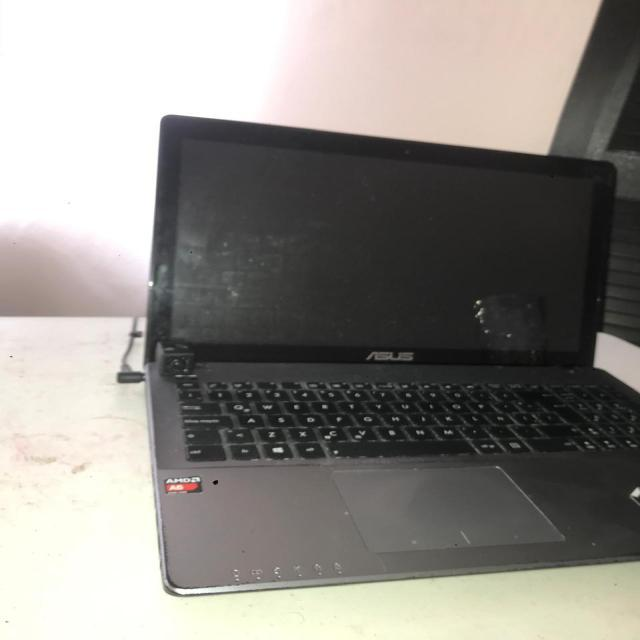hidden camera: (171, 359, 186, 371)
